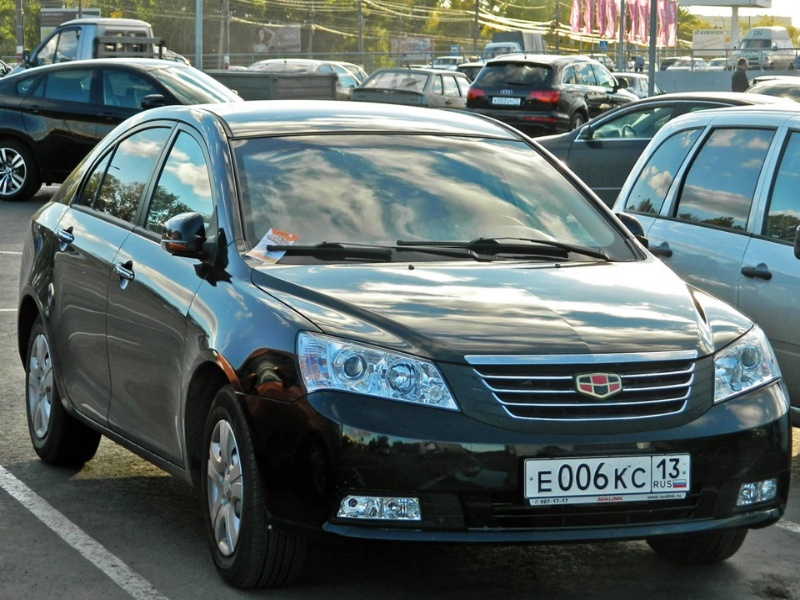car: (18, 99, 793, 584), (611, 107, 800, 427), (1, 59, 245, 199), (467, 52, 640, 133), (354, 68, 472, 108), (730, 25, 793, 70)
person: (731, 58, 751, 93)
plate: (526, 454, 689, 495)
